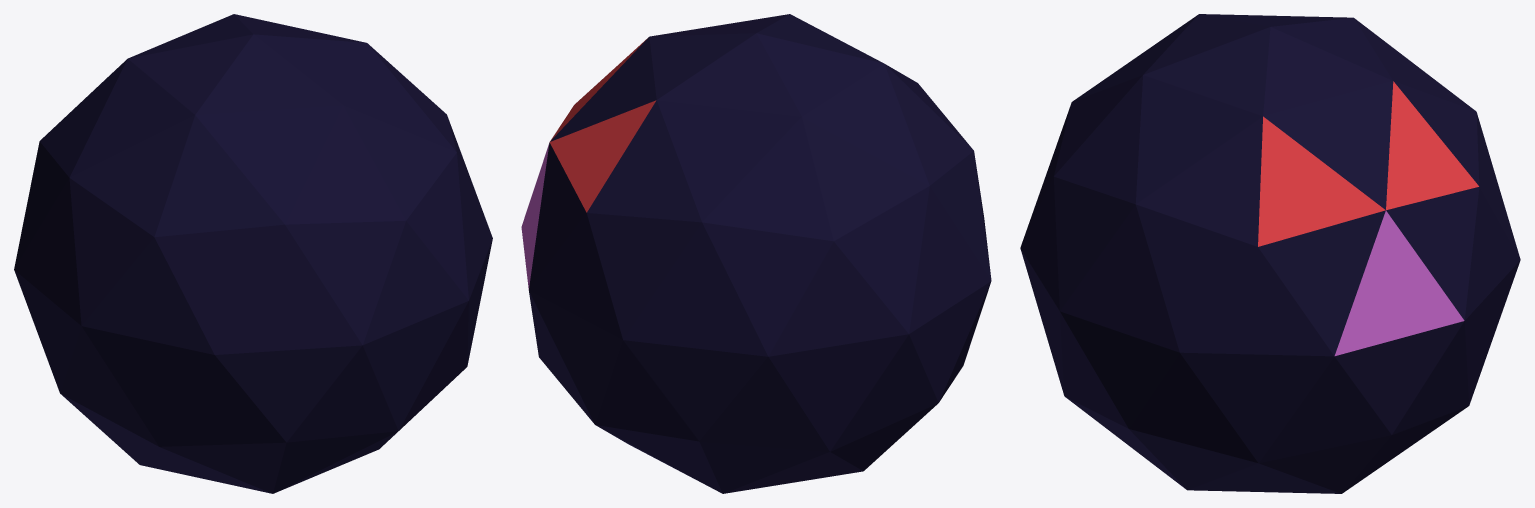
The model's file is SphereWithFace.fbx.
3 views of the same model, side by side, from view 1: azimuth 30°, elevation 25°; view 2: azimuth 150°, elevation 25°; view 3: azimuth 270°, elevation 25° (orthographic). The views are drawn at different scales.
Parts seen in each view (by area): view 1: SphereExtra; view 2: SphereExtra; view 3: SphereExtra.
Part boxes in pixels (<box>): SphereExtra: <box>14,14,492,493</box>; SphereExtra: <box>521,14,991,493</box>; SphereExtra: <box>1020,14,1520,493</box>.
Size of the model in its own units: 41.48 by 42.9 by 42.83.
